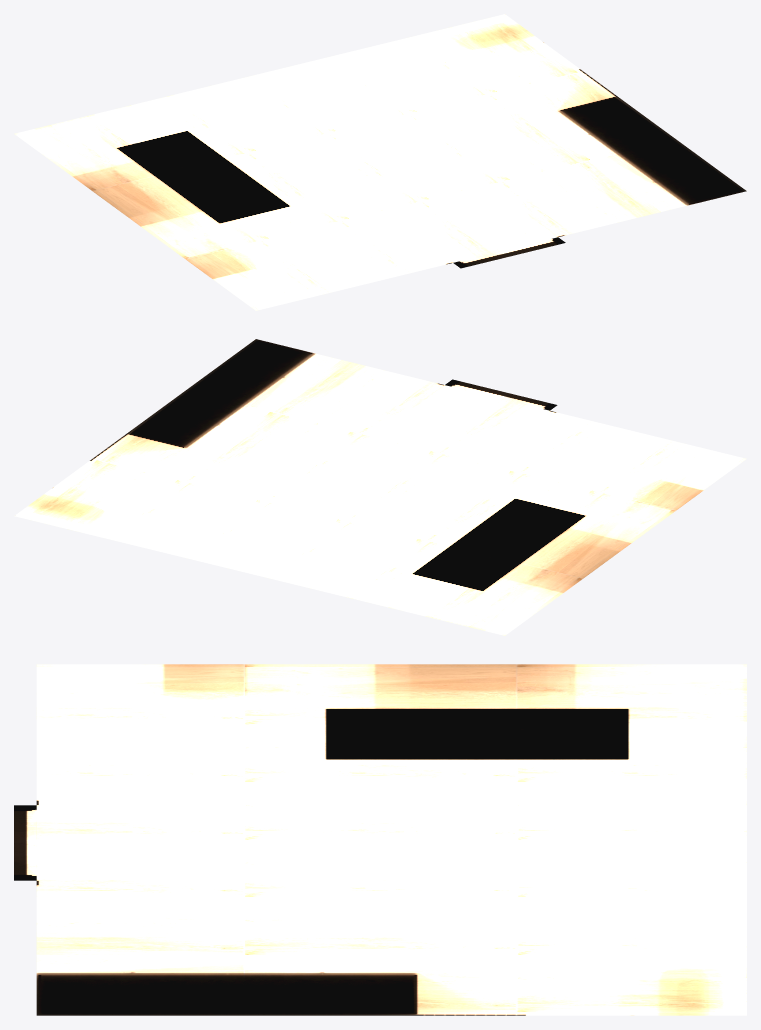
File: Floor_default.glb
3 views of the same model, one above another, from view 1: azimuth 30°, elevation 25°; view 2: azimuth 150°, elevation 25°; view 3: azimuth 270°, elevation 25° (orthographic). The views are drawn at different scales.
Parts seen in each view (by area): view 1: Floor_default; view 2: Floor_default; view 3: Floor_default.
Part boxes in pixels (box(x1,y1,x2,y2)): Floor_default: box(14, 14, 746, 310); Floor_default: box(14, 339, 746, 635); Floor_default: box(14, 664, 746, 1015).
Size of the model in its own units: 3.67 by 5.31e-07 by 3.23.
Materials: 1 (1 with a texture image).
